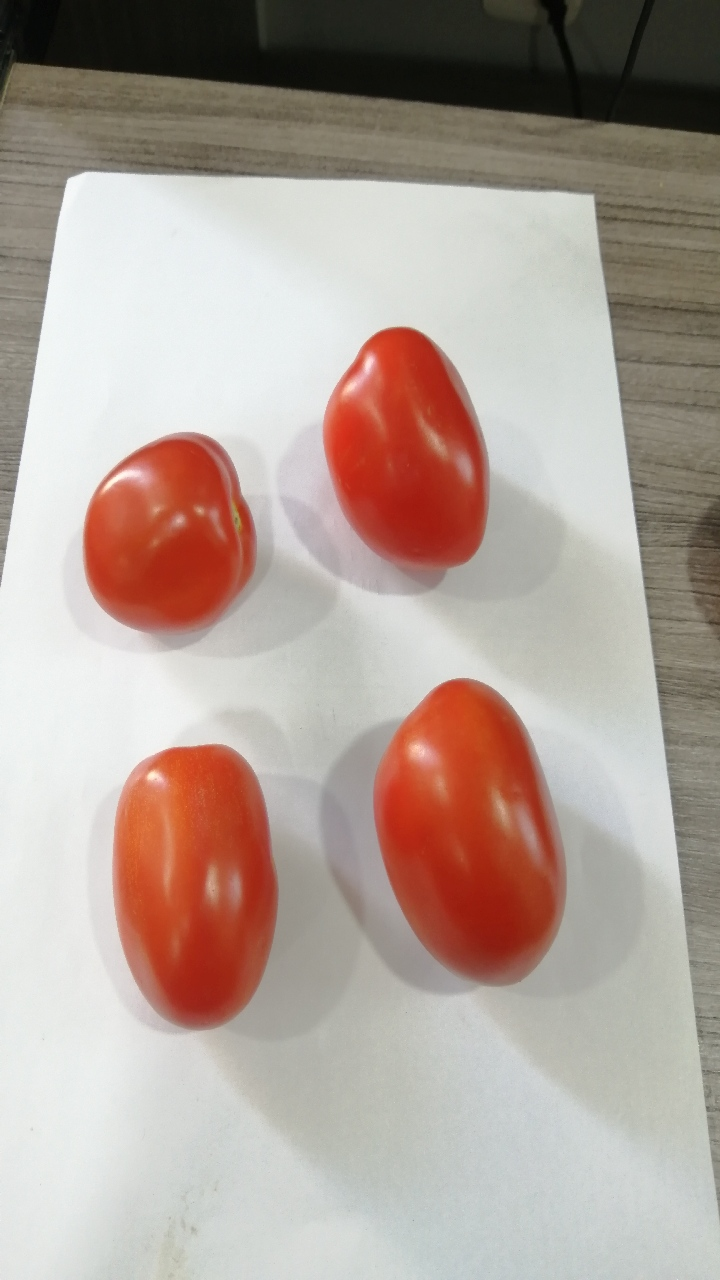tomateRojo: (352, 666, 578, 1002), (84, 719, 295, 1059), (298, 311, 511, 595), (58, 414, 274, 655)
